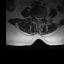CCS_normal: (37, 15, 39, 23)
LFS_normal: (41, 14, 43, 20)
LLS_normal: (39, 15, 41, 22)
RFS_stenosis: (34, 14, 36, 19)
RLS_normal: (36, 15, 37, 21)
